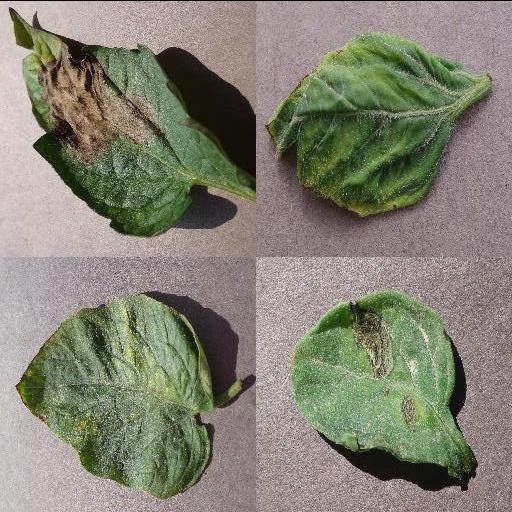Early Blight: (289, 289, 475, 481)
Late Blight: (8, 7, 256, 239)
Spider Mites: (15, 294, 215, 496)
Yellow Leaf Curl Virus: (265, 31, 467, 217)
